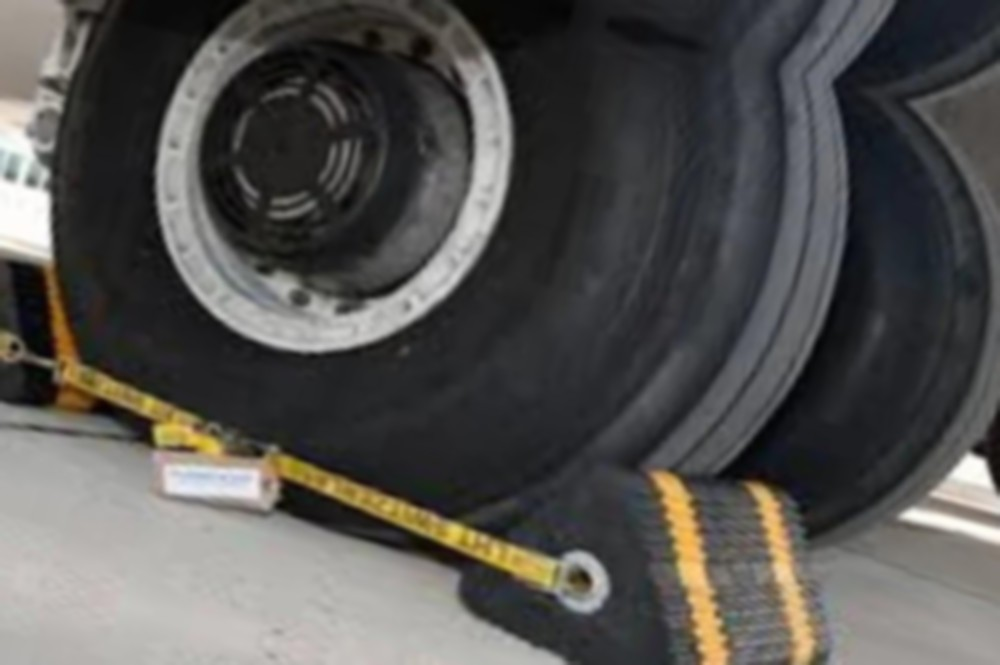chock: (435, 411, 873, 665), (0, 239, 99, 415)
wheel: (0, 0, 911, 616), (684, 73, 1000, 582)
